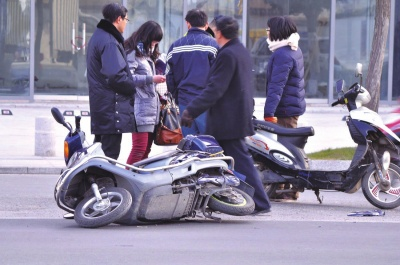non-vehicle: (51, 117, 254, 227), (253, 82, 400, 211)
